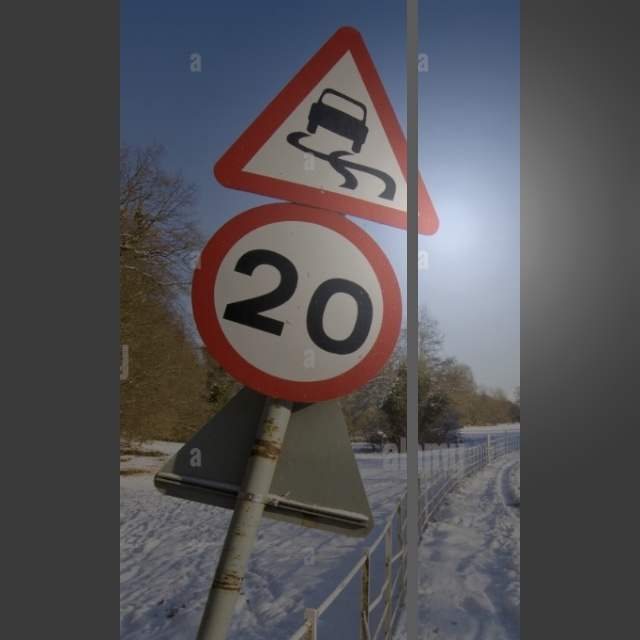Slippery_Road: (221, 28, 435, 222)
